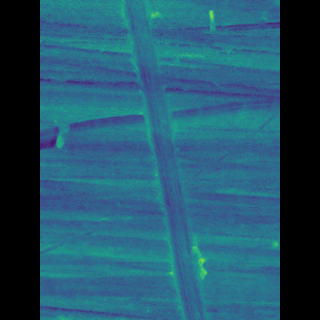Loch: (127, 0, 197, 320), (67, 88, 250, 153)
